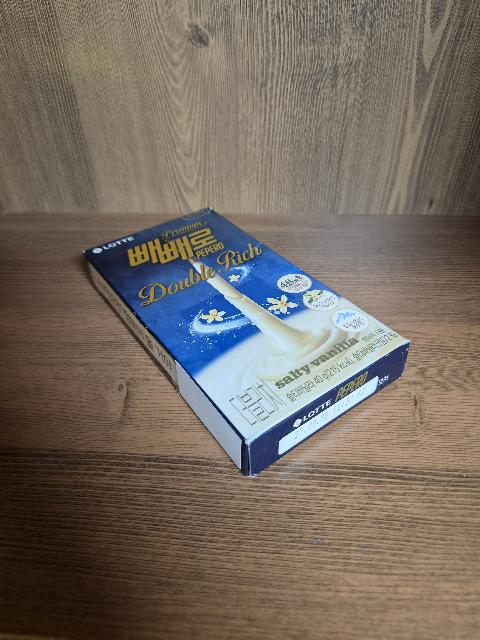pepero: (83, 205, 409, 477)
